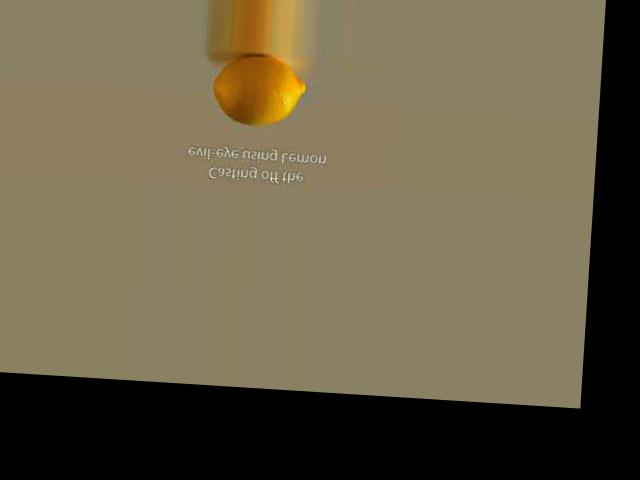lemon: (202, 55, 320, 134)
